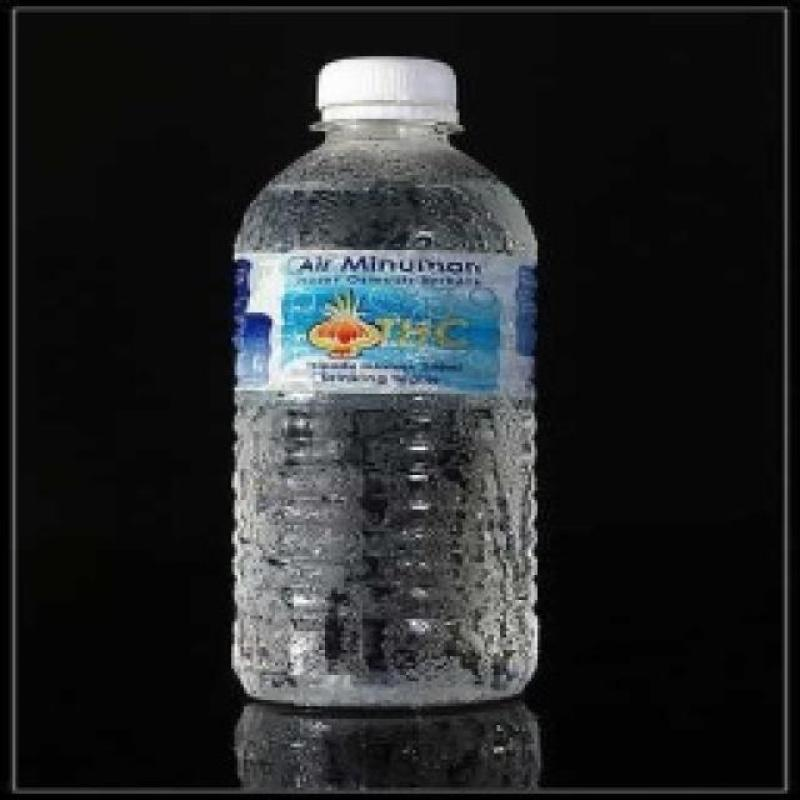botella: (223, 54, 539, 708)
